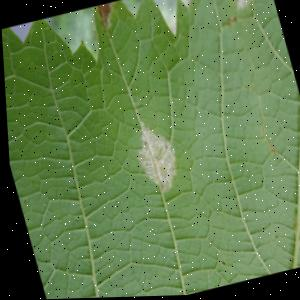Folha: (0, 0, 300, 300)
Fungo: (127, 115, 183, 199), (95, 2, 120, 31), (227, 0, 271, 13)
